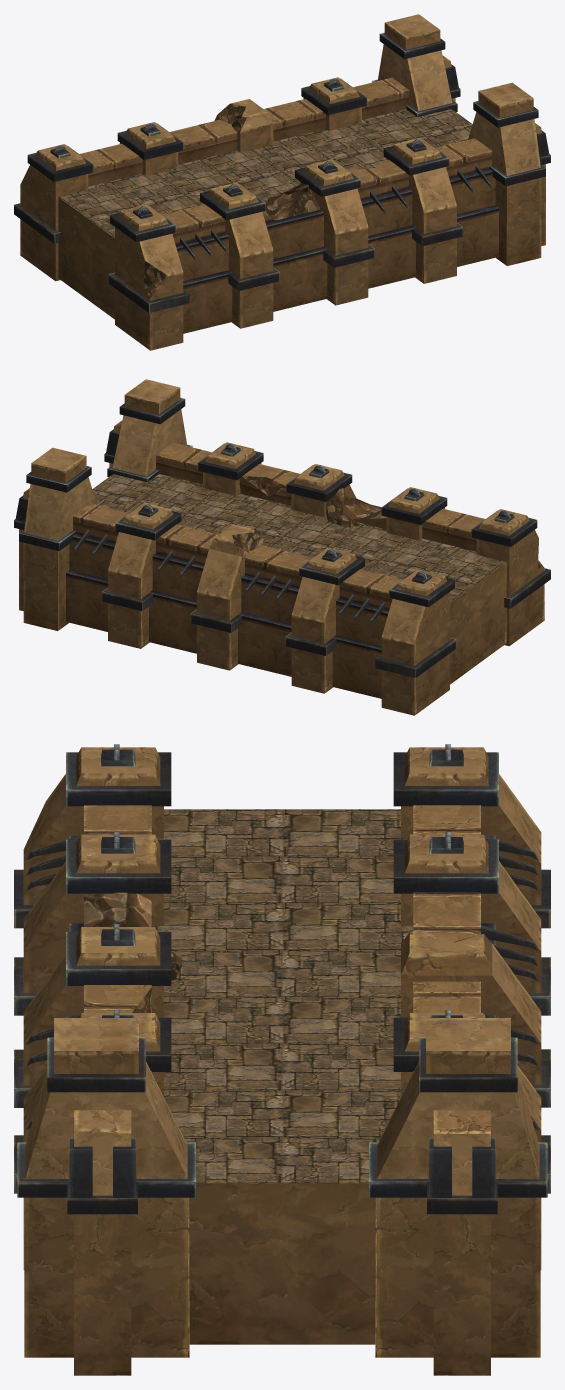
Rendered from A_qidianqiao_001.fbx.
The picture shows the model from 3 angles, top to bottom: view 1: azimuth 30°, elevation 25°; view 2: azimuth 150°, elevation 25°; view 3: azimuth 270°, elevation 25°; orthographic projection. The views are drawn at different scales.
Parts seen in each view (by area): view 1: A_qidianqiao_001; view 2: A_qidianqiao_001; view 3: A_qidianqiao_001.
Part boxes in pixels (x1=…): A_qidianqiao_001: x1=14, y1=14, x2=550, y2=350; A_qidianqiao_001: x1=14, y1=379, x2=550, y2=715; A_qidianqiao_001: x1=14, y1=744, x2=550, y2=1375.
Bounding box in the file's own units: 1078 × 384 × 607.
